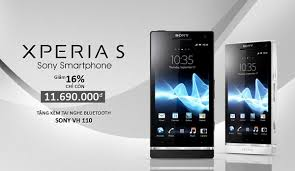sony: (149, 26, 213, 162), (223, 39, 276, 156)
